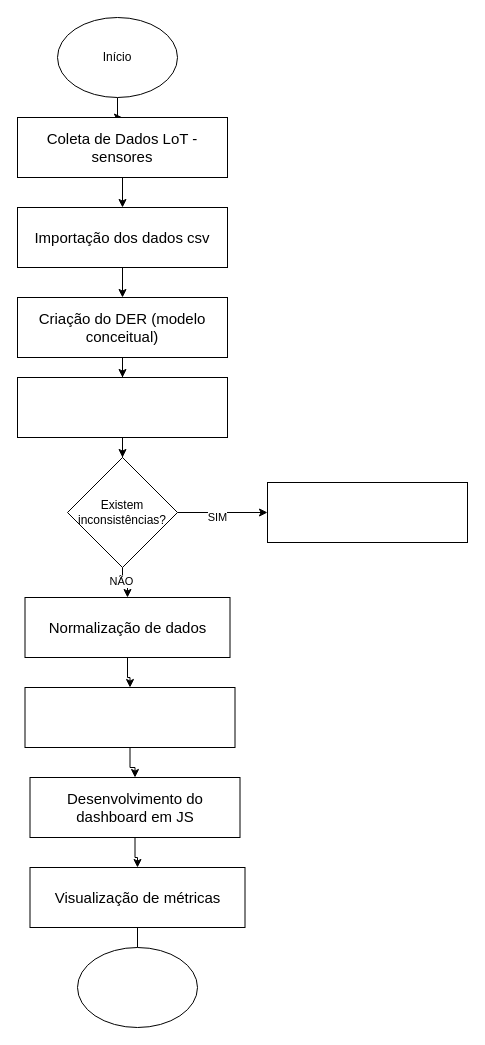
The diagram is 485 pixels wide and 1045 high, and some of its shapes have lost their labels. The shapes that lost their labels are listed below. From the top down, each one's centre as x and y in pixels, then its label:
the point at 122,407: Tratamento dos dados
the point at 367,512: Correlação de dados
the point at 129,717: Criação do banco de dados (SQL)
the point at 137,987: Fim
